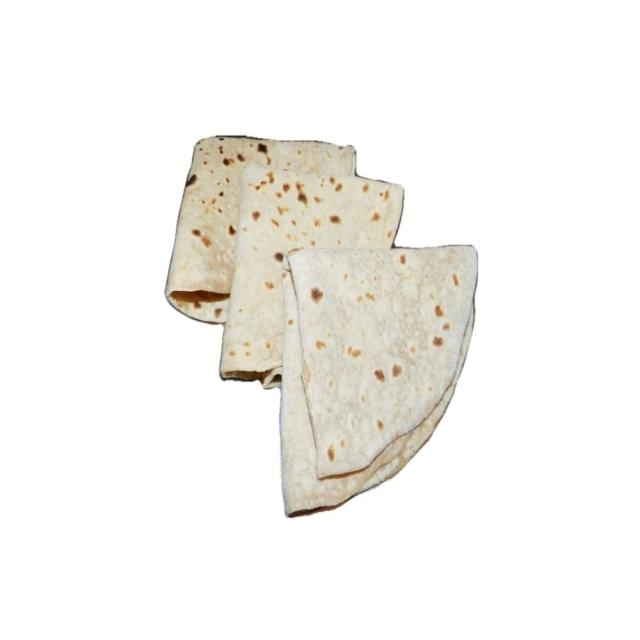ROTI: (222, 140, 399, 375)
